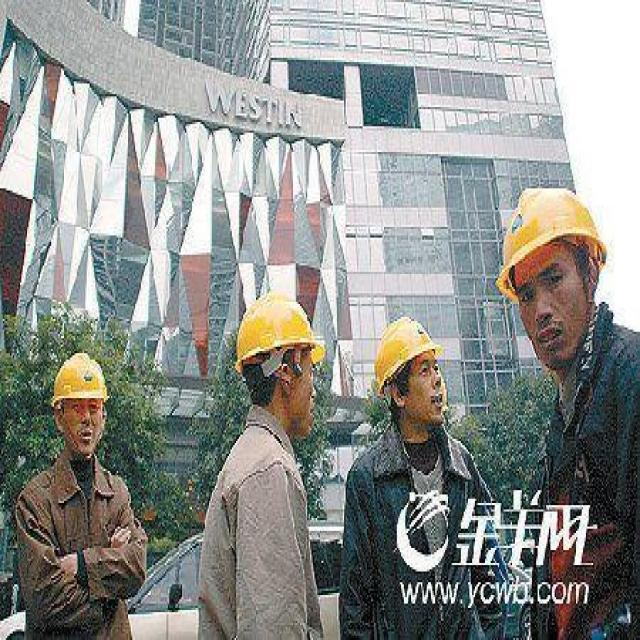hat: (491, 175, 614, 384), (230, 284, 324, 446), (371, 310, 451, 439), (44, 342, 112, 467)
